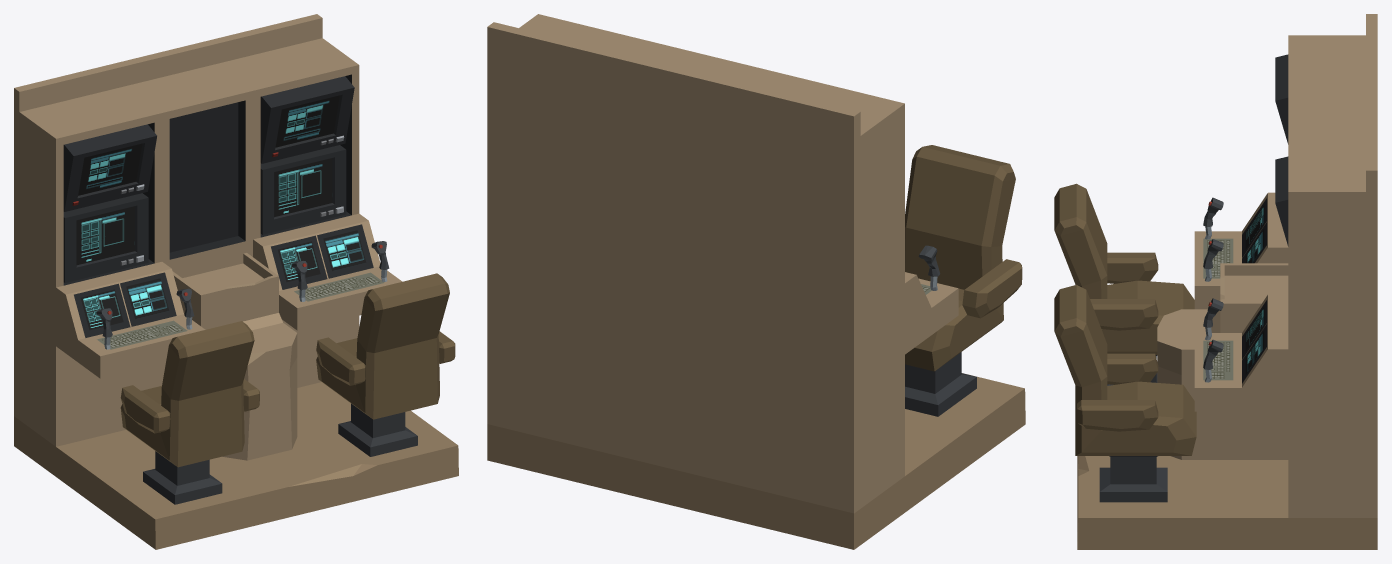
File: SM_Prop_Drone_Control_Station_01.fbx
The picture shows the model from 3 angles, left to right: view 1: azimuth 30°, elevation 25°; view 2: azimuth 150°, elevation 25°; view 3: azimuth 270°, elevation 25°; orthographic projection. The views are drawn at different scales.
Visible parts, largest first — view 1: SM_Prop_Drone_Control_Station_01; view 2: SM_Prop_Drone_Control_Station_01; view 3: SM_Prop_Drone_Control_Station_01.
Boxes of the visible parts, x1=… form: SM_Prop_Drone_Control_Station_01: x1=14, y1=14, x2=458, y2=549; SM_Prop_Drone_Control_Station_01: x1=487, y1=14, x2=1025, y2=549; SM_Prop_Drone_Control_Station_01: x1=1054, y1=14, x2=1377, y2=549.
Size of the model in its own units: 213 by 241 by 186.
